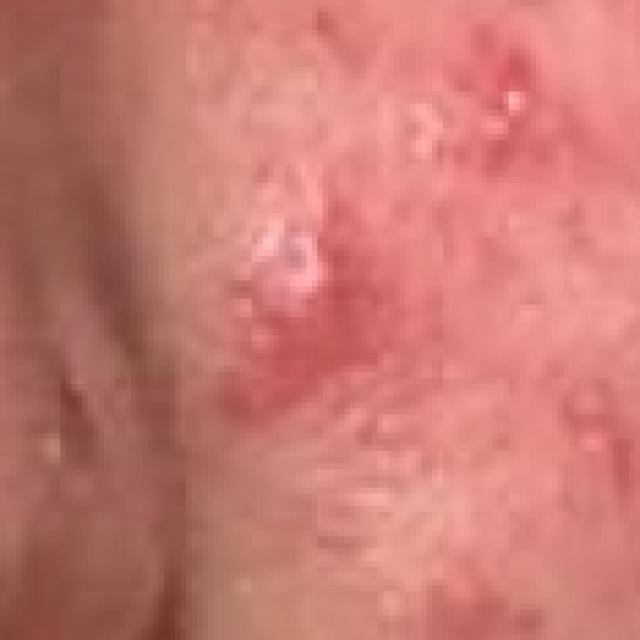nodule: (246, 227, 360, 361)
